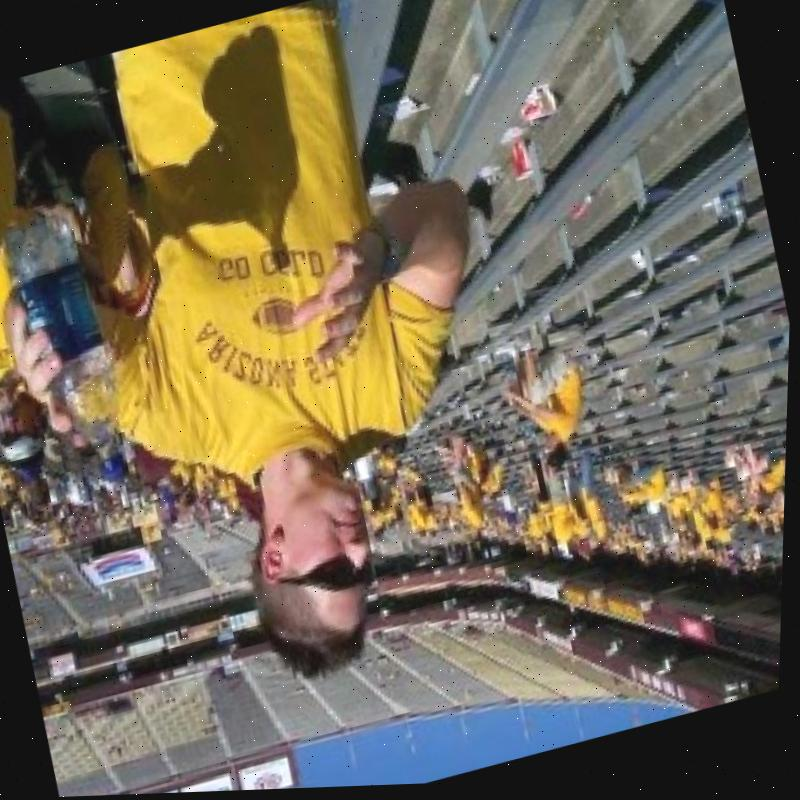botella: (0, 193, 146, 498)
